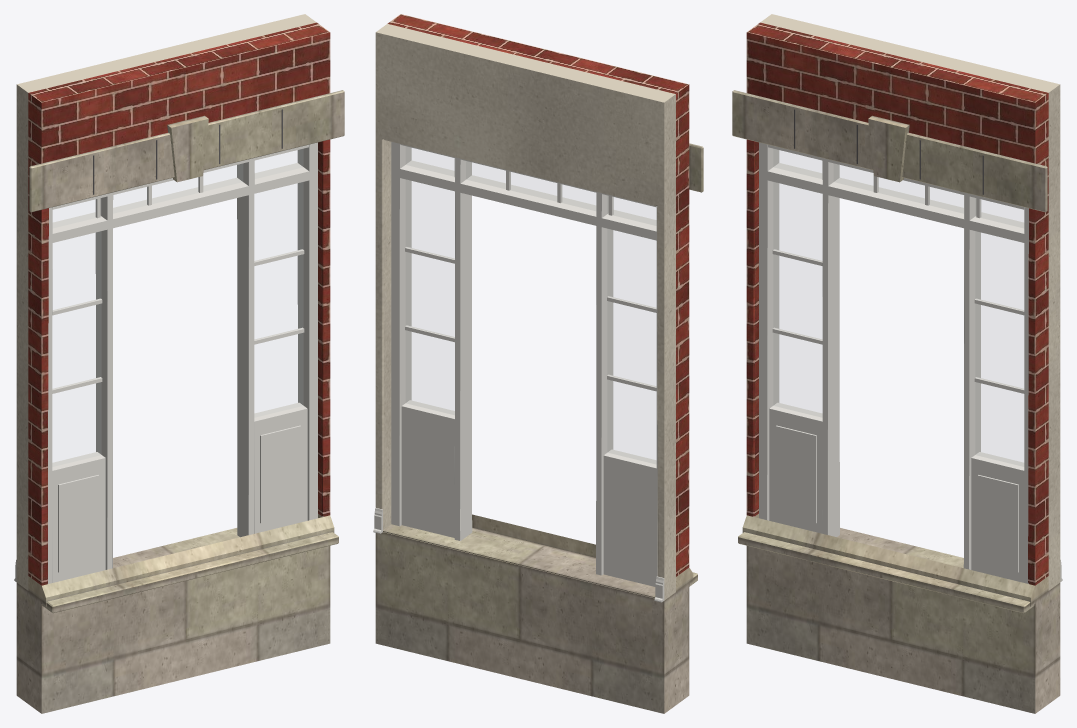
File: w0_door.glb
3 renders of one model, left to right at view 1: azimuth 30°, elevation 25°; view 2: azimuth 150°, elevation 25°; view 3: azimuth 330°, elevation 25°, orthographic.
Parts seen in each view (by area): view 1: w0_door_stone_t, w0_door_brick, w0_door_frame, w0_door_glass, w0_door_plaster, w0_door_trim; view 2: w0_door_plaster, w0_door_stone_t, w0_door_frame, w0_door_glass, w0_door_brick; view 3: w0_door_stone_t, w0_door_brick, w0_door_frame, w0_door_glass, w0_door_plaster, w0_door_trim.
Part boxes in pixels (x1,y1,x2,y2): w0_door_stone_t: (16, 90, 344, 713); w0_door_brick: (28, 22, 330, 585); w0_door_frame: (48, 142, 317, 583); w0_door_glass: (53, 149, 302, 465); w0_door_plaster: (16, 14, 316, 590); w0_door_trim: (58, 425, 301, 572); w0_door_plaster: (375, 24, 675, 600); w0_door_stone_t: (375, 143, 703, 713); w0_door_frame: (391, 142, 657, 586); w0_door_glass: (406, 147, 655, 463); w0_door_brick: (387, 14, 689, 576); w0_door_stone_t: (732, 90, 1060, 713); w0_door_brick: (746, 22, 1048, 585); w0_door_frame: (759, 142, 1028, 583); w0_door_glass: (774, 149, 1023, 465); w0_door_plaster: (760, 14, 1060, 590); w0_door_trim: (775, 425, 1018, 572).
Size of the model in its own units: 2.18 by 4.05 by 0.45.
Materials: 7 (3 with a texture image).
